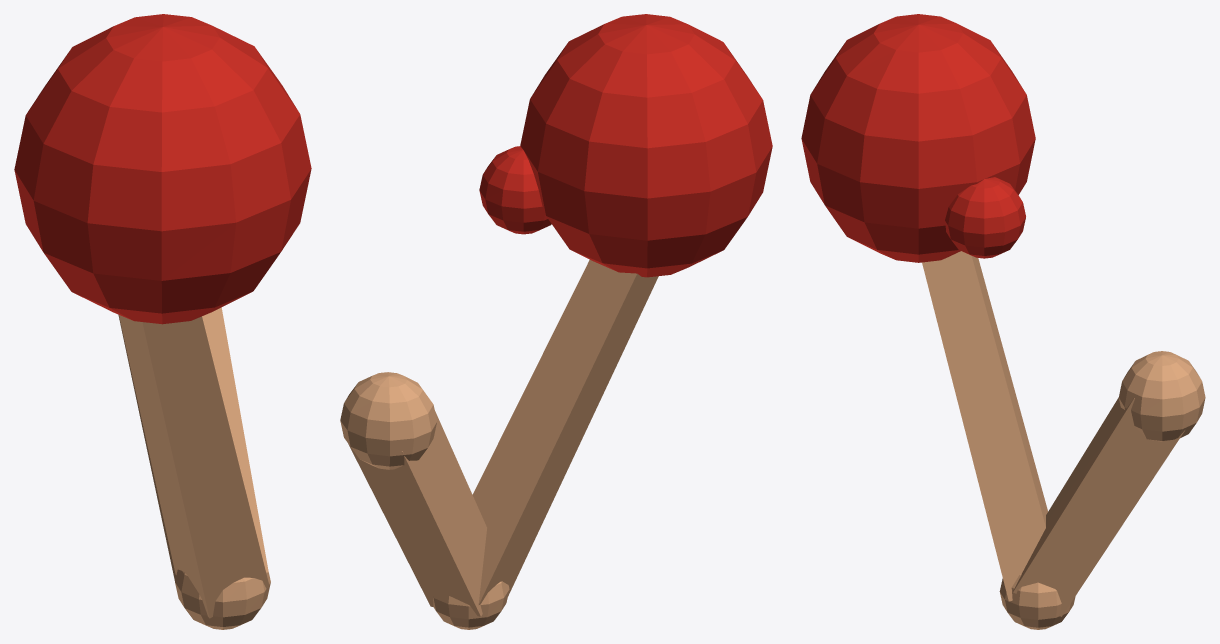
File: boxeador_estratega_left_arm.obj
The picture shows the model from 3 angles, left to right: view 1: azimuth 30°, elevation 25°; view 2: azimuth 150°, elevation 25°; view 3: azimuth 270°, elevation 25°; orthographic projection. The views are drawn at different scales.
Visible parts, largest first — view 1: guante_L, antebrazo_L, brazo_L, codo_L; view 2: guante_L, antebrazo_L, brazo_L, hombro_L, pulgar_L, codo_L; view 3: guante_L, antebrazo_L, brazo_L, hombro_L, pulgar_L, codo_L.
Part boxes in pixels (x1,y1,x2,y2): guante_L: (14,14,311,324); antebrazo_L: (119,315,269,618); brazo_L: (118,307,268,580); codo_L: (175,569,270,629); guante_L: (520,14,772,277); antebrazo_L: (472,260,658,604); brazo_L: (348,411,486,616); hombro_L: (340,372,437,469); pulgar_L: (479,146,551,234); codo_L: (433,581,509,629); guante_L: (801,14,1035,262); antebrazo_L: (922,251,1047,601); brazo_L: (1013,397,1184,616); hombro_L: (1119,351,1205,441); pulgar_L: (945,177,1025,258); codo_L: (999,574,1075,629).
Size of the model in its own units: 0.691 by 1.37 by 0.9126.
